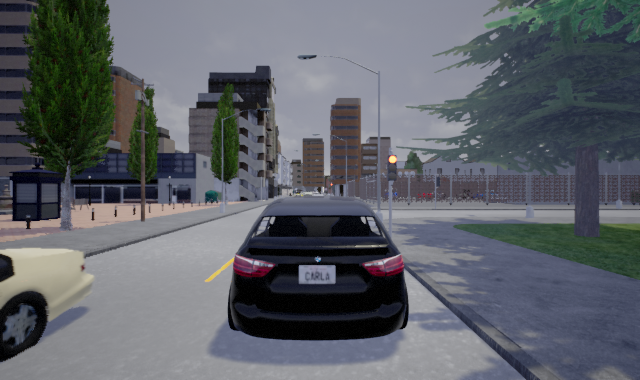vehicle: (226, 199, 409, 341), (1, 246, 93, 365)
